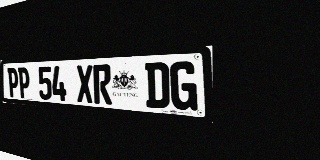4: (51, 66, 66, 101)
5: (38, 66, 52, 100)
D: (145, 62, 170, 109)
G: (170, 61, 198, 111)
P: (18, 67, 30, 99), (7, 68, 19, 98)
R: (93, 64, 112, 105)
X: (76, 65, 93, 103)
